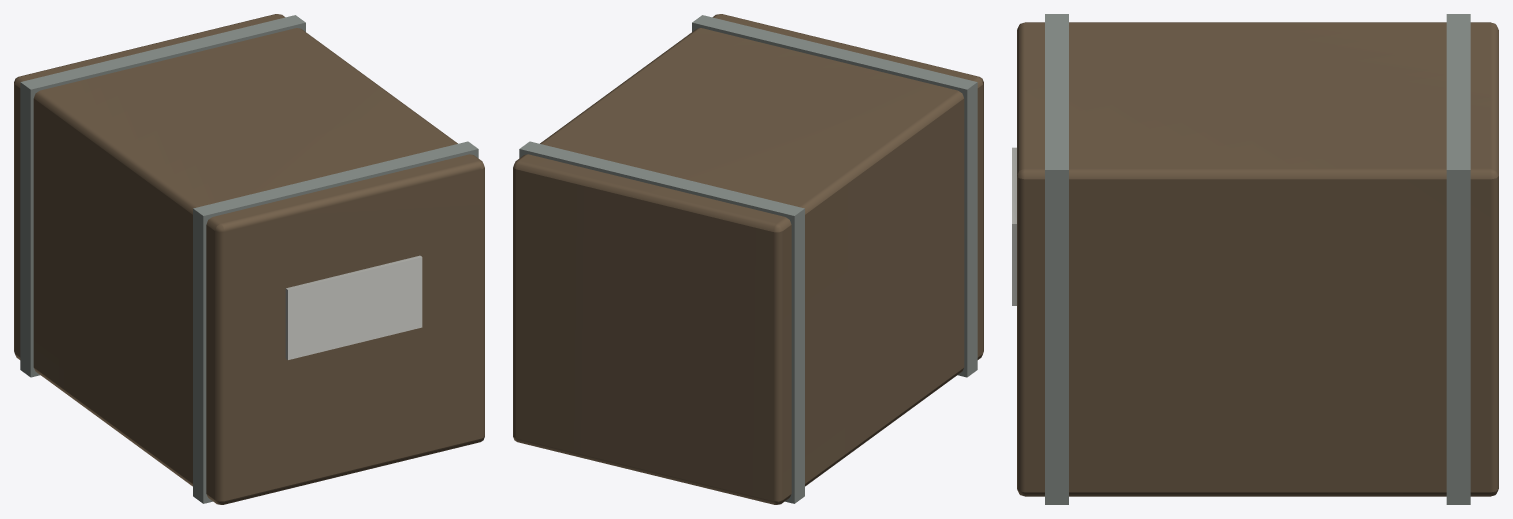
Rendered from crate_long.glb.
3 views of the same model, side by side, from view 1: azimuth 30°, elevation 25°; view 2: azimuth 150°, elevation 25°; view 3: azimuth 270°, elevation 25° (orthographic). The views are drawn at different scales.
Visible parts, largest first — view 1: CrateLong; view 2: CrateLong; view 3: CrateLong.
Boxes of the visible parts, <box> form: CrateLong: <box>14,14,484,504</box>; CrateLong: <box>513,14,983,504</box>; CrateLong: <box>1012,14,1498,504</box>.
Size of the model in its own units: 0.92 by 0.92 by 1.21.
